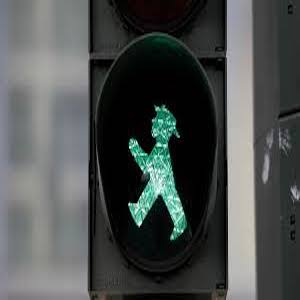green: (114, 96, 203, 241)
